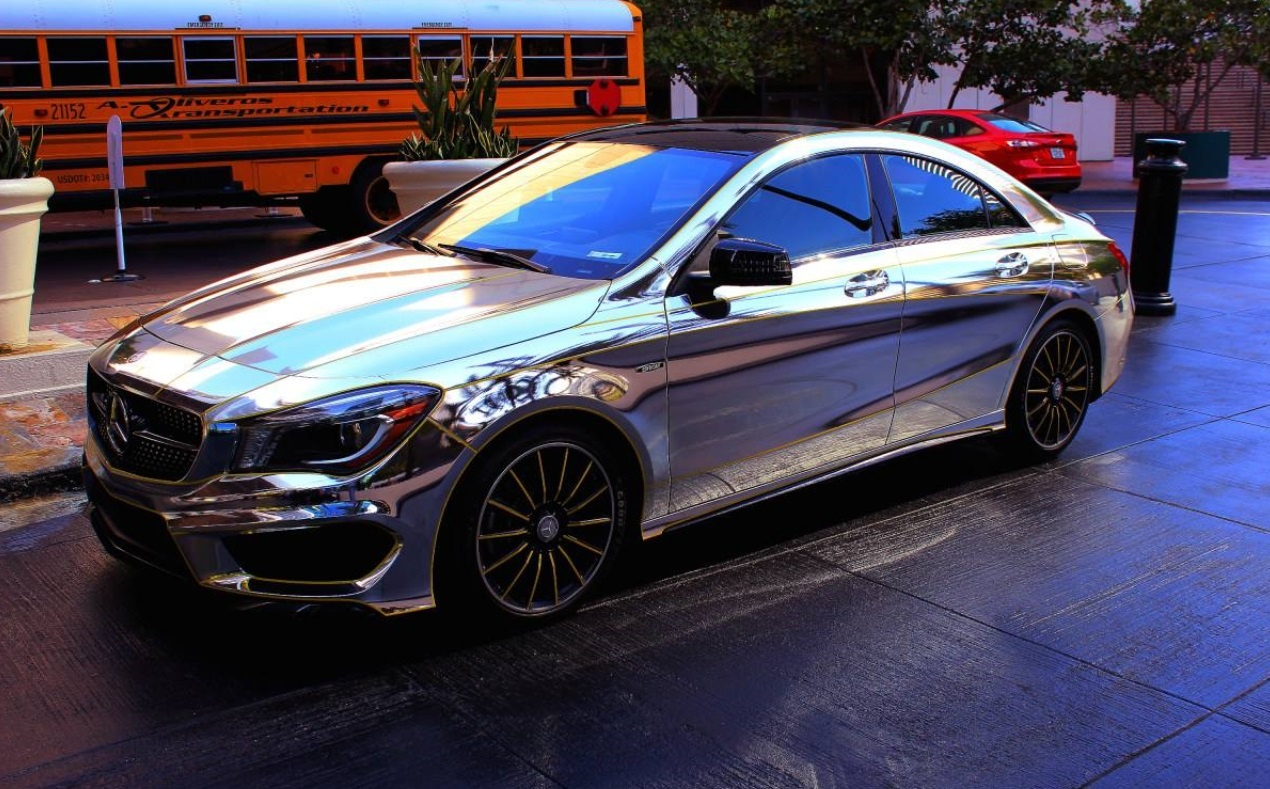family sedan: (85, 105, 1127, 620)
